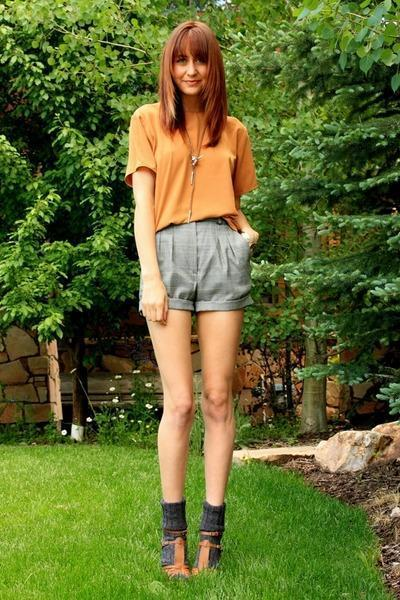shirt: (127, 108, 262, 247)
shoe: (151, 500, 229, 577)
shorts: (156, 219, 258, 319)
